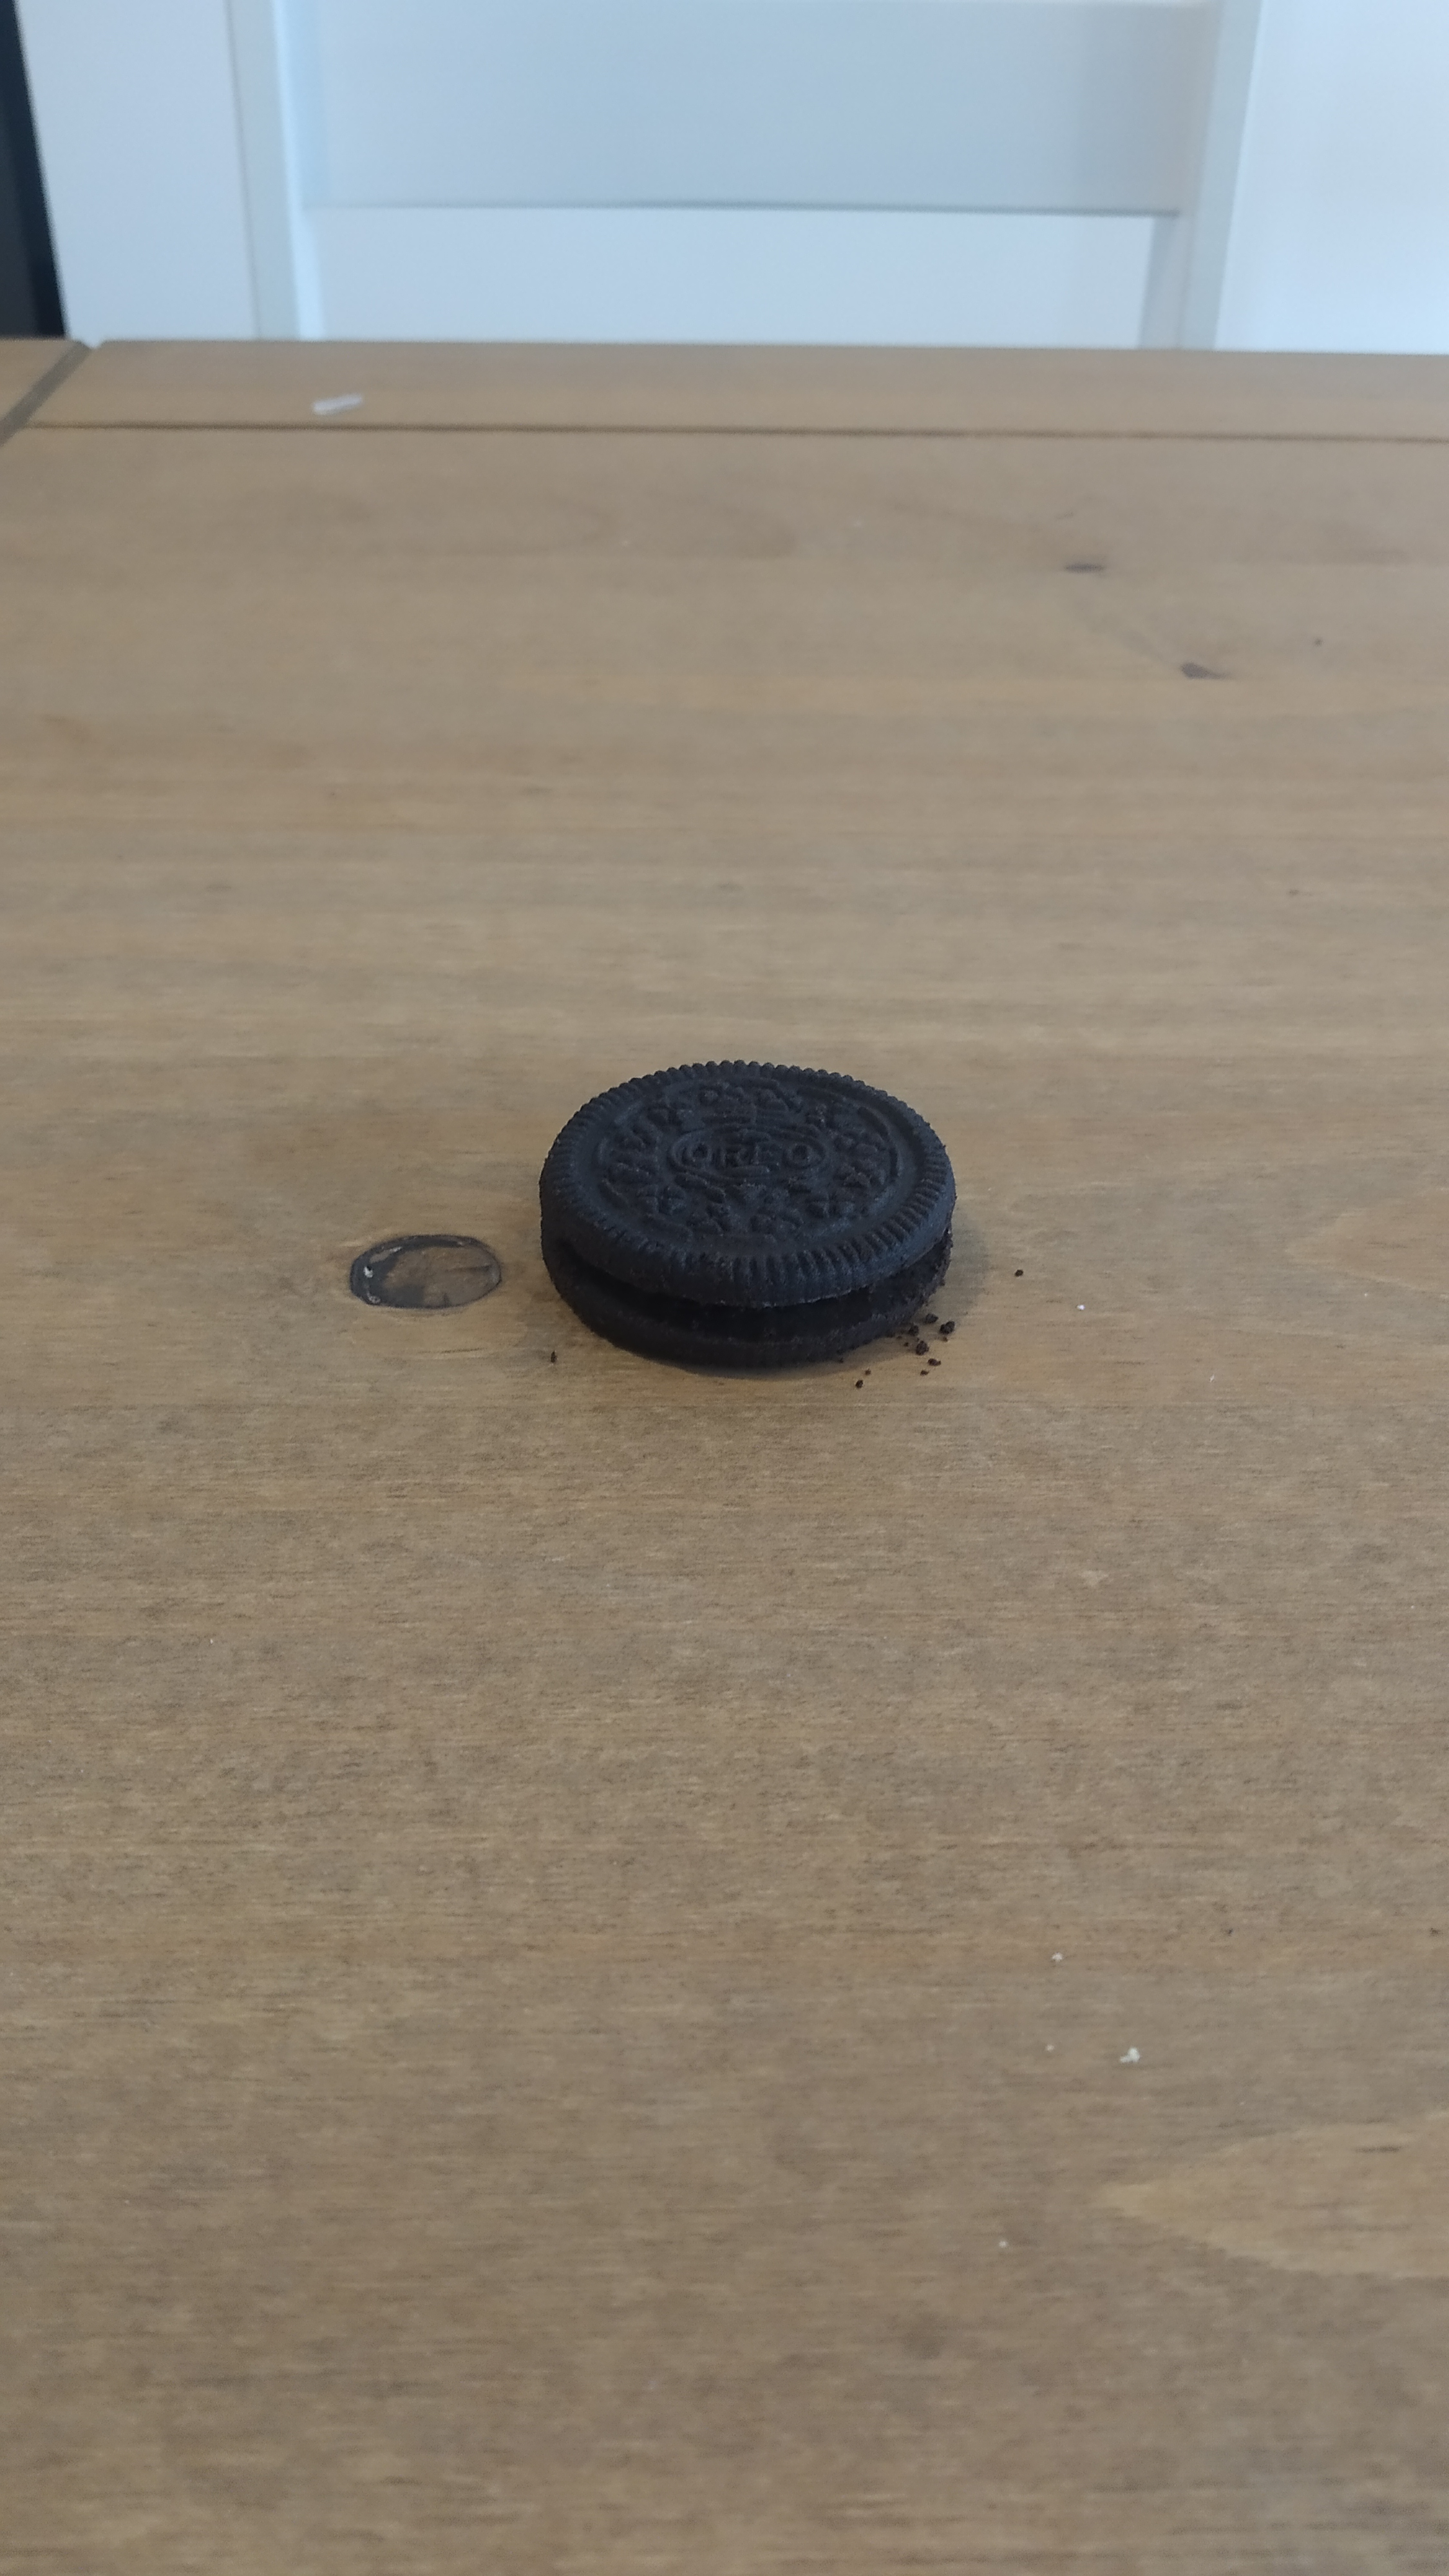oreo: (540, 1062, 959, 1371)
